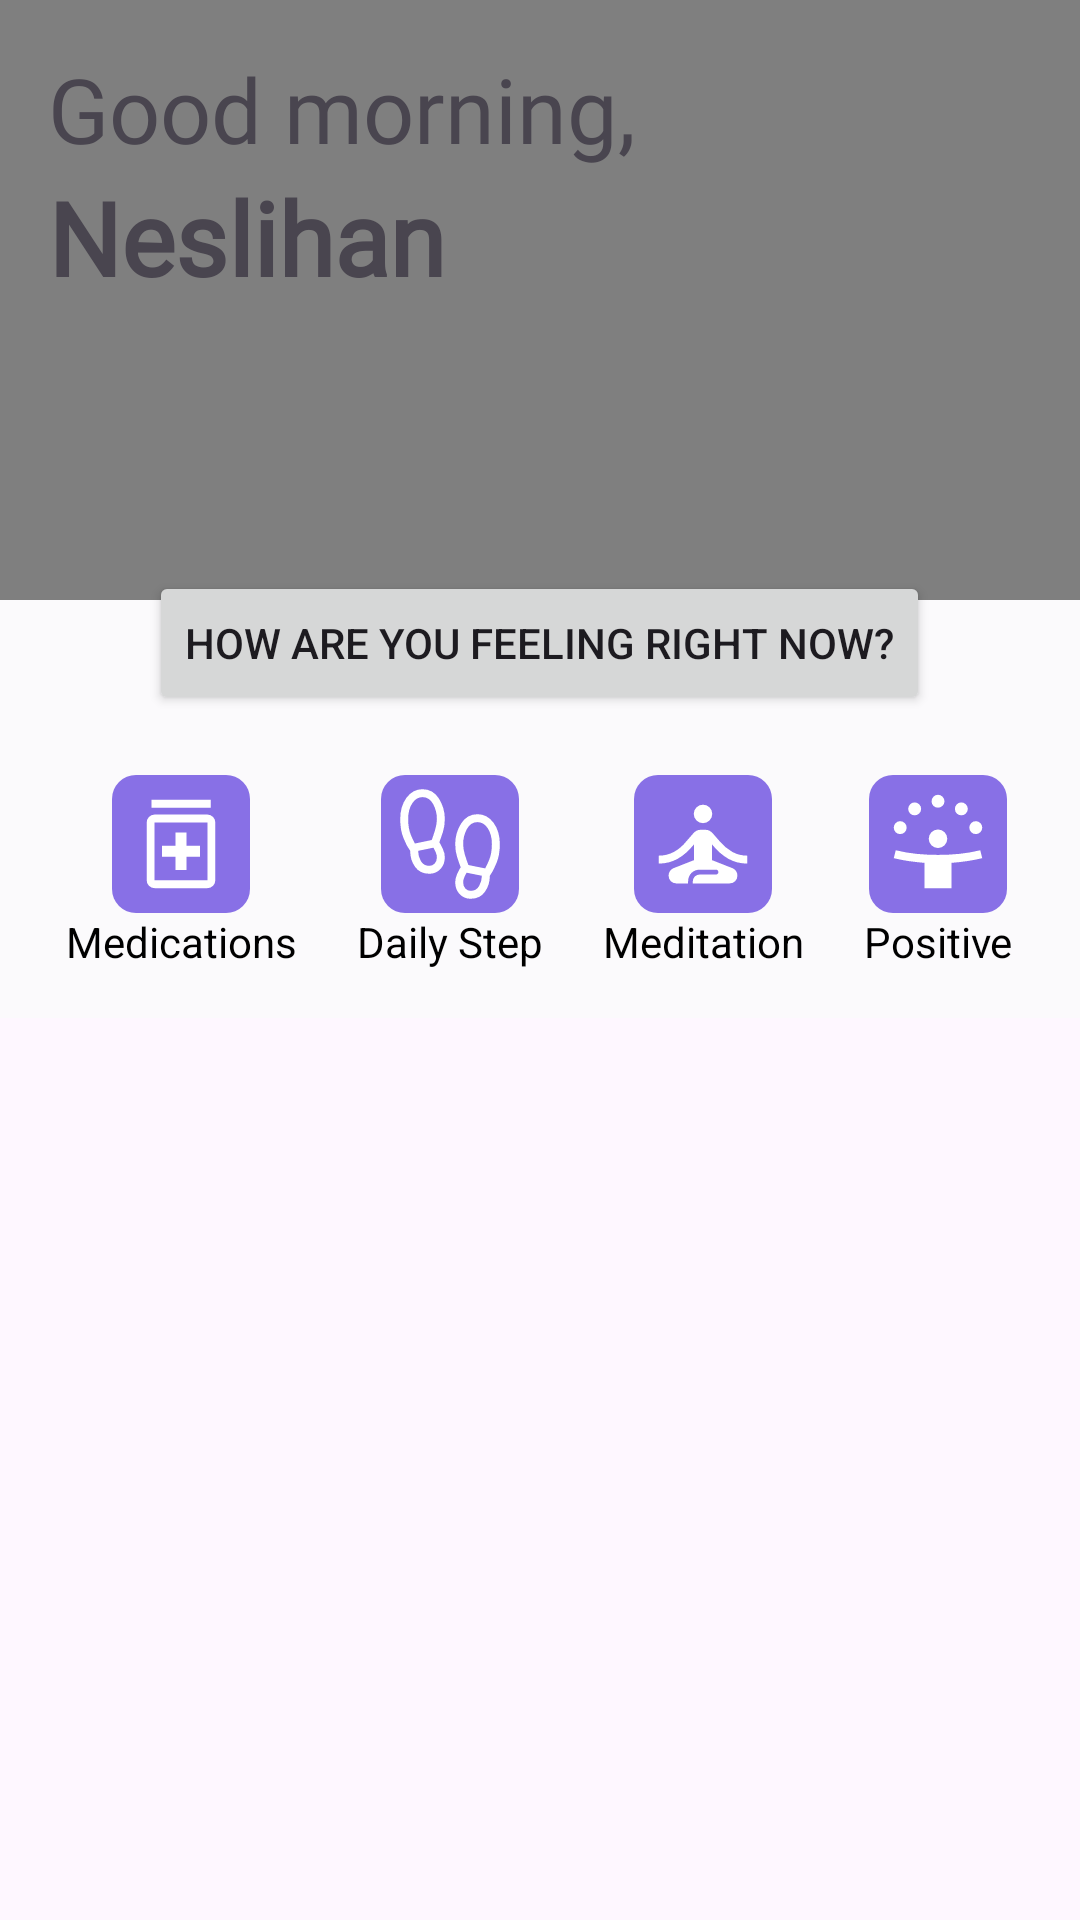

Point at icon controls on the screen. Image size 1080*1920, points as [x,y].
footprint: [450,844]
yoga: [703,844]
